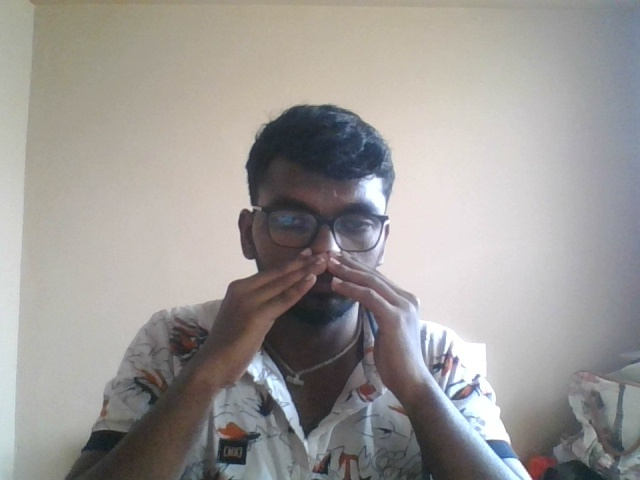Thank you: (192, 244, 448, 401)
